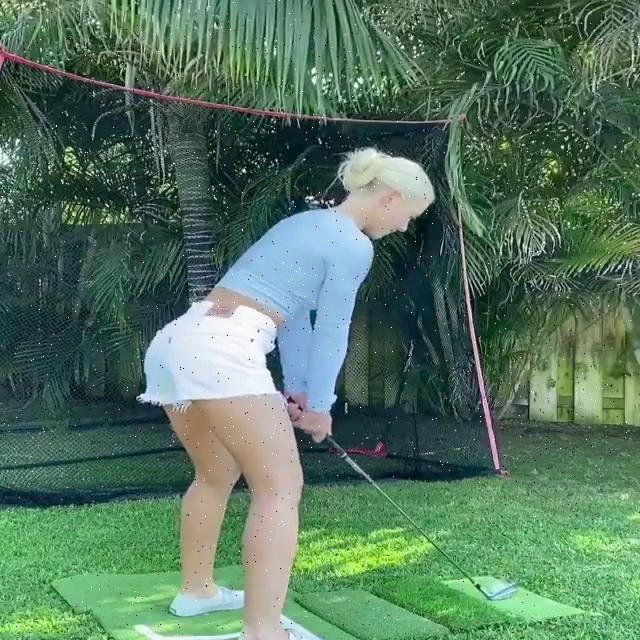golf club-handle: (288, 396, 516, 601)
golf club-head: (489, 584, 516, 601)
